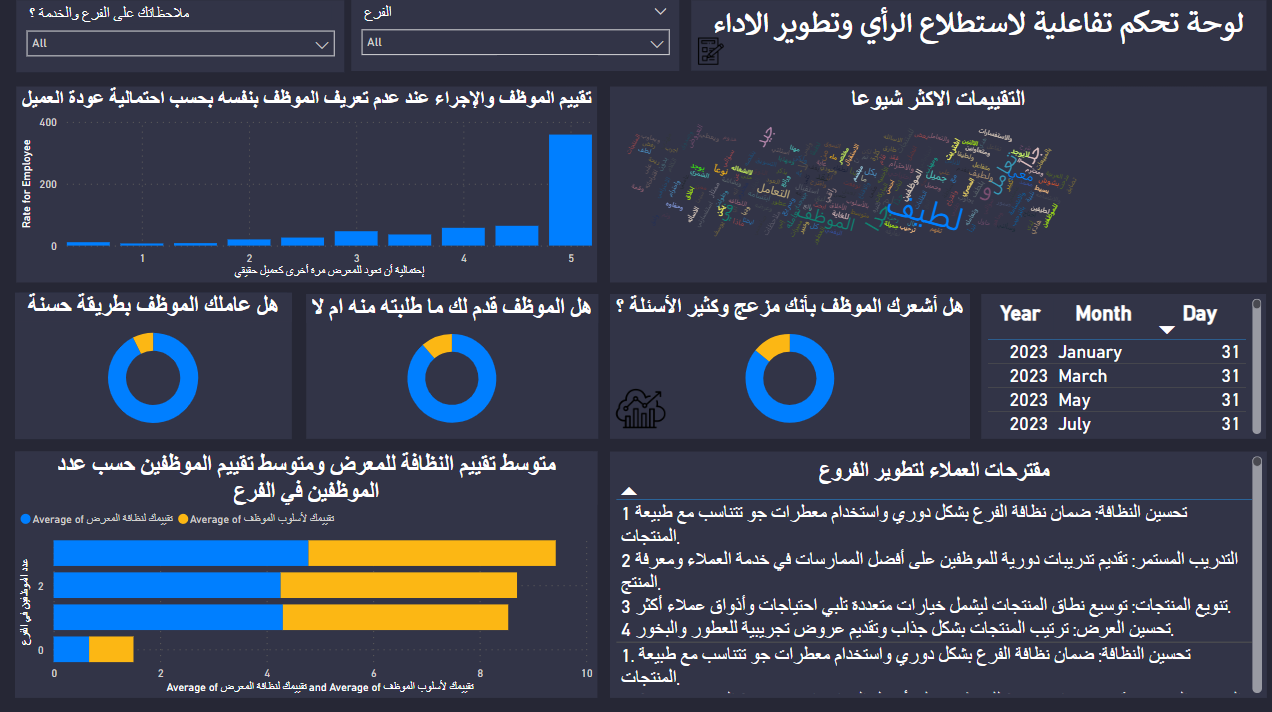

The dashboard page shown, as its layout file describes it:
{"tool":"powerbi","page":{"name":"Dashboard","canvas":[1280,720],"ordinal":0},"visuals":[{"type":"donutChart","title":"هل الموظف قدم لك ما طلبته منه ام لا","fields":{"Category":["Order Survey Forms.Did the employee present products that suited your needs?"],"Y":["CountNonNull(Order Survey Forms.Did the employee present products that suited your needs?)"]},"box":[306.7,295,291.7,145],"z":0},{"type":"donutChart","title":"هل عاملك الموظف بطريقة حسنة","fields":{"Y":["CountNonNull(Order Survey Forms.Did the employee treat you kindly)"],"Category":["Order Survey Forms.Did the employee treat you kindly"]},"box":[15,293.3,276.7,146.7],"z":1000},{"type":"clusteredColumnChart","title":"تقييم الموظف والإجراء عند عدم تعريف الموظف بنفسه بحسب احتمالية عودة العميل","fields":{"Category":["Order Survey Forms.Likelihood of Returning as a Repeat Customer"],"Y":["Sum(Order Survey Forms.Rate for Employee)"]},"box":[16.3,87.7,580.9,196.1],"z":3000},{"type":"barChart","title":"متوسط تقييم النظافة للمعرض ومتوسط تقييم الموظفين حسب عدد الموظفين في الفرع","fields":{"Y":["Avg(Order Survey Forms.Cleanliness Rating of Showroom)","Avg(Order Survey Forms.Rate for Employee)"],"Category":["Order Survey Forms.Number of Emplyees in Branch"]},"box":[14.9,453.1,582.4,246.6],"z":4000},{"type":"WordCloud1447959067750","title":"التقييمات الاكثر شيوعا","fields":{"Category":["Order Survey Forms.الملاحظات_1"]},"box":[610.6,87.7,656.6,196.1],"z":5000},{"type":"donutChart","title":"هل أشعرك الموظف بأنك مزعج وكثير الأسئلة ؟","fields":{"Category":["Order Survey Forms.Did the employee make you feel like you were a nuisance and asking too many questions? Yes No"],"Y":["CountNonNull(Order Survey Forms.Did the employee make you feel like you were a nuisance and asking too many questions? Y"]},"box":[610,295,360,145],"z":6000},{"type":"slicer","fields":{"Values":["Order Survey Forms.Notes for Branch and Services"]},"box":[16.7,1.7,328.3,71.7],"z":7000},{"type":"slicer","fields":{"Values":["Order Survey Forms.Branch"]},"box":[351.7,0,328.3,71.7],"z":8000},{"type":"tableEx","fields":{"Values":["Order Survey Forms.Recommendations for Improvement"]},"box":[610.6,453.1,656.6,246.6],"z":9000},{"type":"tableEx","fields":{"Values":["Order Survey Forms.Survey Date.Variation.Date Hierarchy.Year","Order Survey Forms.Survey Date.Variation.Date Hierarchy.Month","Order Survey Forms.Survey Date.Variation.Date Hierarchy.Day"]},"box":[981.7,295,285,145],"z":11001},{"type":"textbox","box":[691.7,1.7,575,70],"z":11002},{"type":"image","box":[610.3,378.7,61.5,61.5],"z":11003},{"type":"image","box":[692.3,33.8,37.4,37.4],"z":11004}]}

Visuals, with their boxes in screenshot pixels (x1, y1, x2, y2), scaled from the page's 1280x720 canvas onto the 1272x712 screenshot:
"هل الموظف قدم لك ما طلبته منه ام لا" donutChart: <box>305,292,595,435</box>
"هل عاملك الموظف بطريقة حسنة" donutChart: <box>15,290,290,435</box>
"تقييم الموظف والإجراء عند عدم تعريف الموظف بنفسه بحسب احتمالية عودة العميل" clusteredColumnChart: <box>16,87,593,281</box>
"متوسط تقييم النظافة للمعرض ومتوسط تقييم الموظفين حسب عدد الموظفين في الفرع" barChart: <box>15,448,594,692</box>
"التقييمات الاكثر شيوعا" WordCloud1447959067750: <box>607,87,1259,281</box>
"هل أشعرك الموظف بأنك مزعج وكثير الأسئلة ؟" donutChart: <box>606,292,964,435</box>
slicer - Order Survey Forms.Notes for Branch and Services: <box>17,2,343,73</box>
slicer - Order Survey Forms.Branch: <box>350,0,676,71</box>
tableEx - Order Survey Forms.Recommendations for Improvement: <box>607,448,1259,692</box>
tableEx - Order Survey Forms.Survey Date.Variation.Date Hierarchy.Year x Order Survey Forms.Survey Date.Variation.Date Hierarchy.Month: <box>976,292,1259,435</box>
textbox: <box>687,2,1259,71</box>
image: <box>606,374,668,435</box>
image: <box>688,33,725,70</box>
